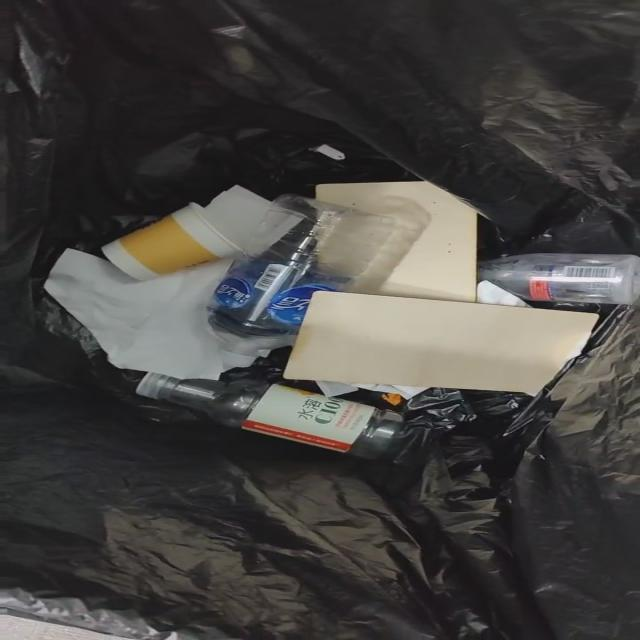bottle: (208, 197, 382, 366), (137, 374, 405, 458), (478, 254, 639, 306)
carton: (285, 292, 597, 394), (313, 182, 476, 302)
dixie_cup: (102, 204, 249, 280)
paper: (44, 249, 231, 380), (320, 382, 428, 400), (477, 280, 529, 306)
